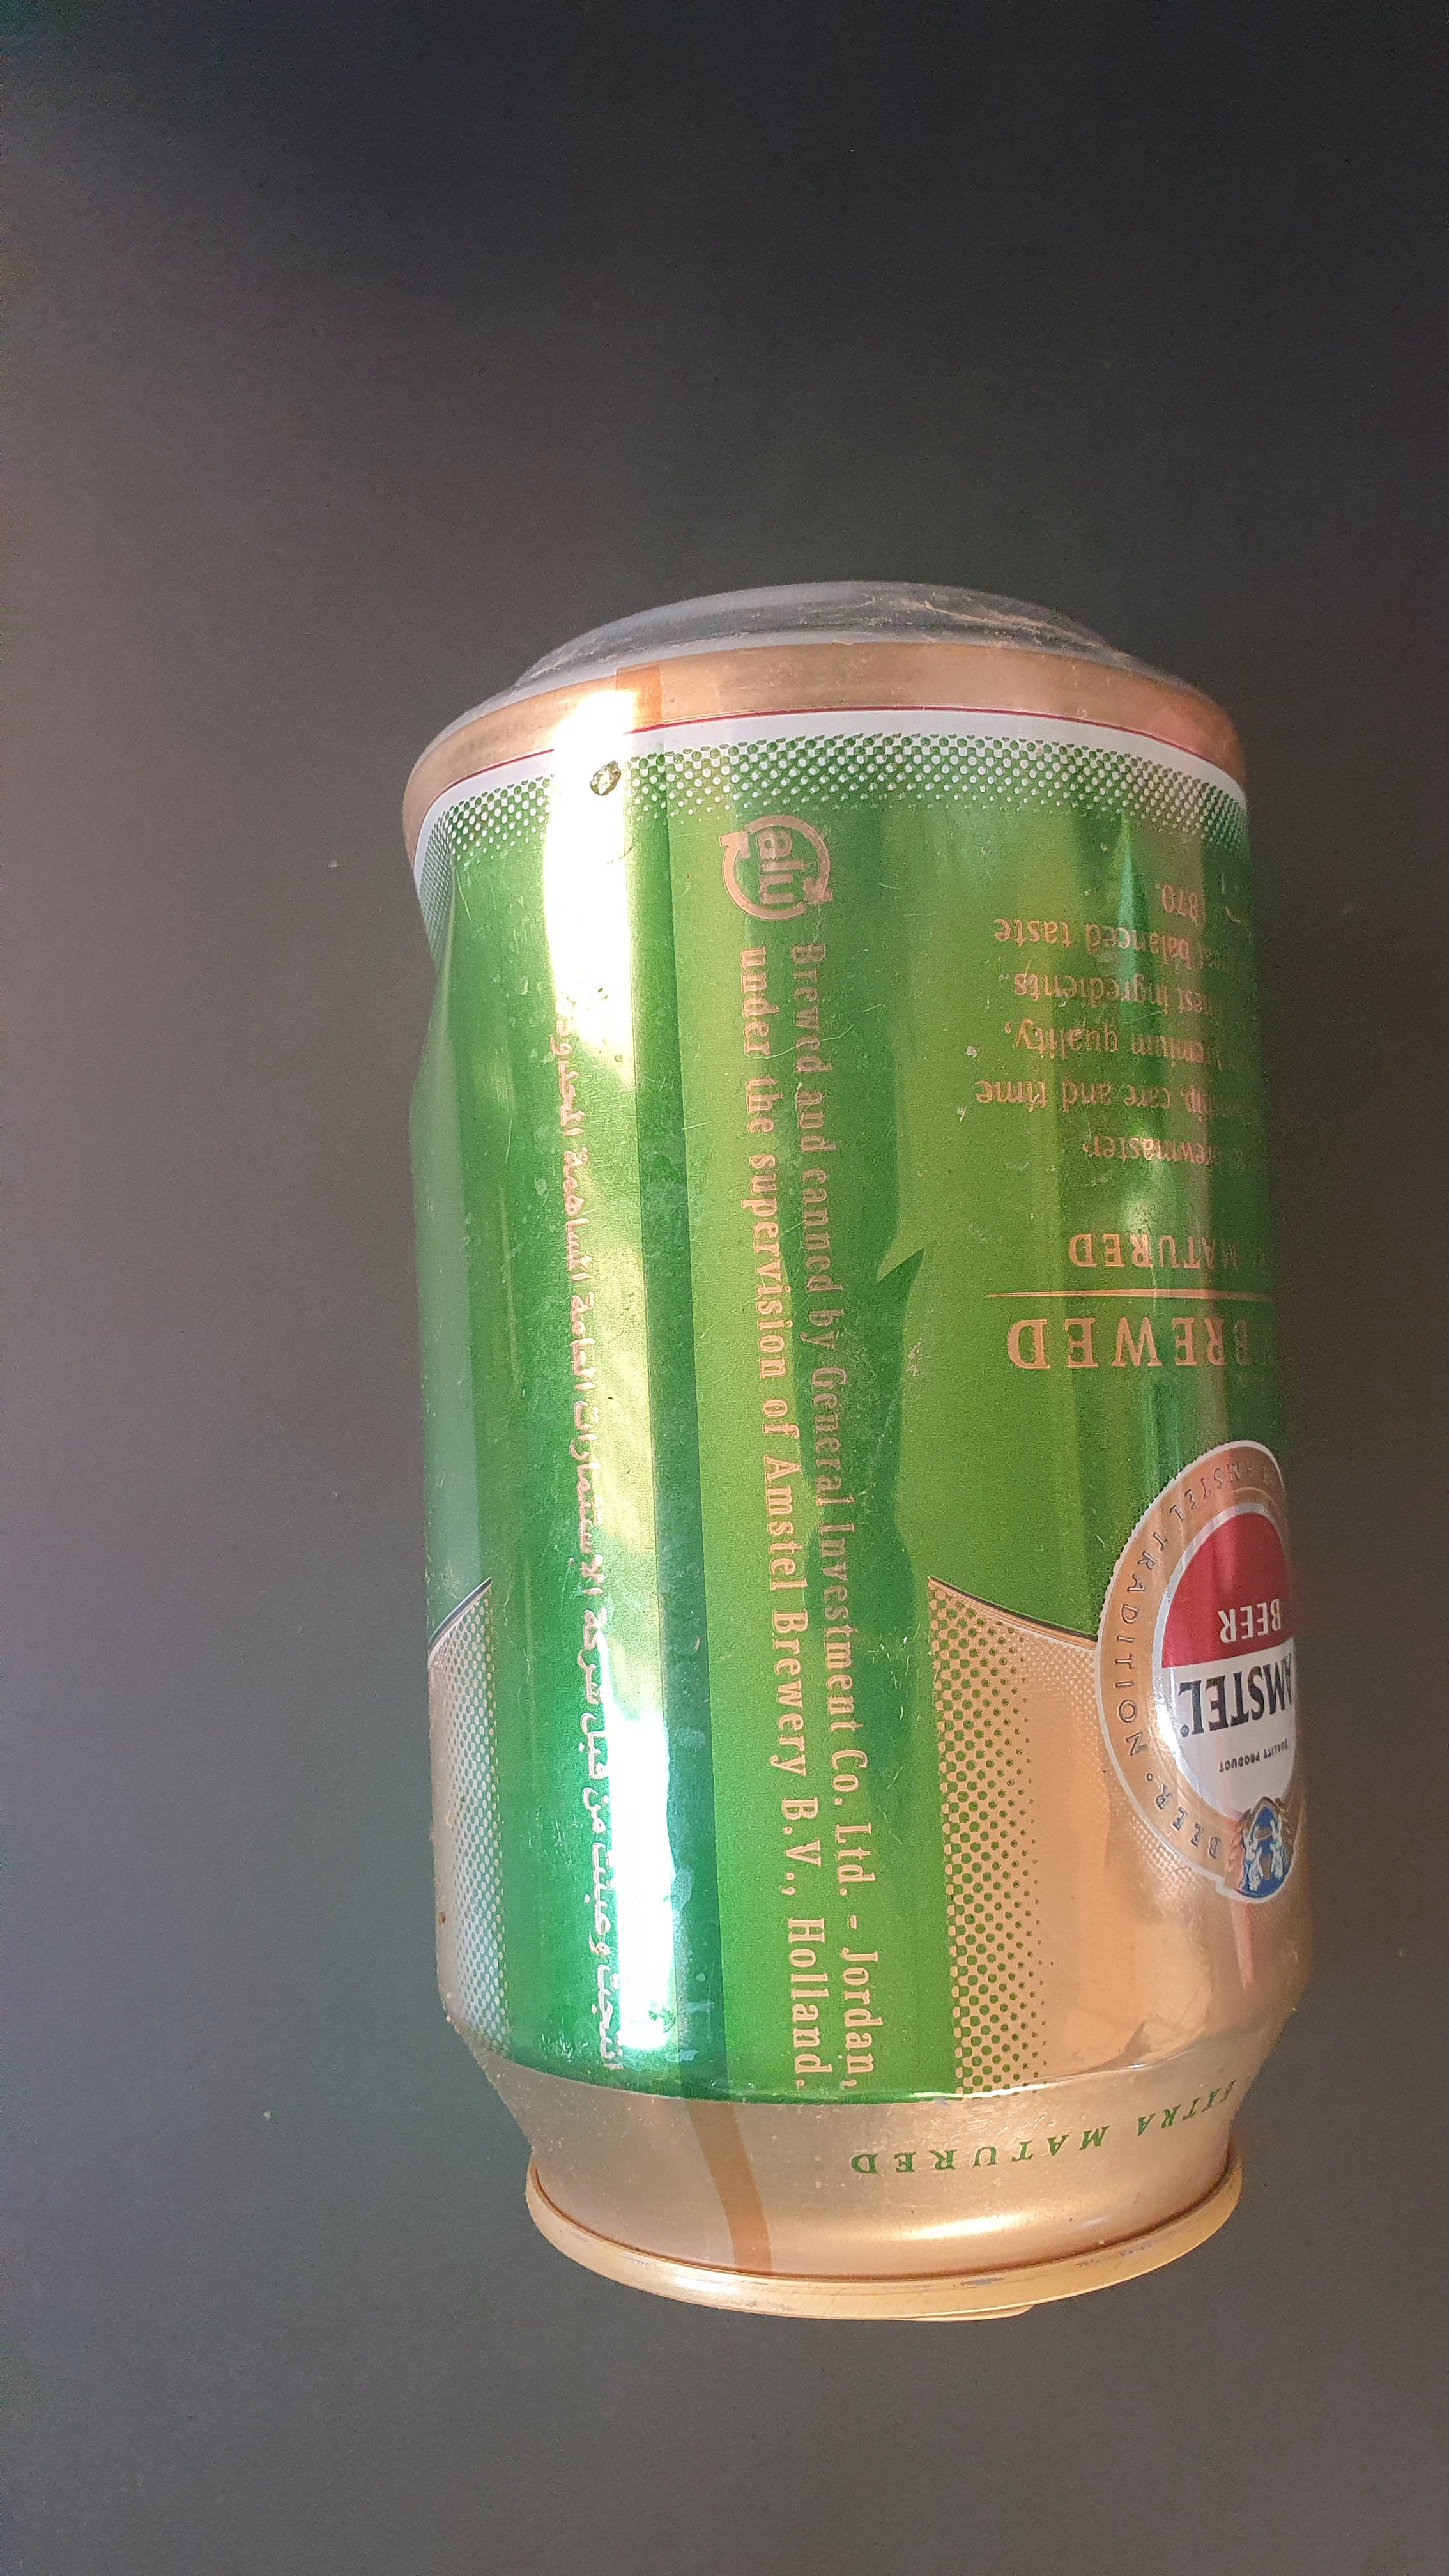metal: (327, 510, 1362, 2365)
